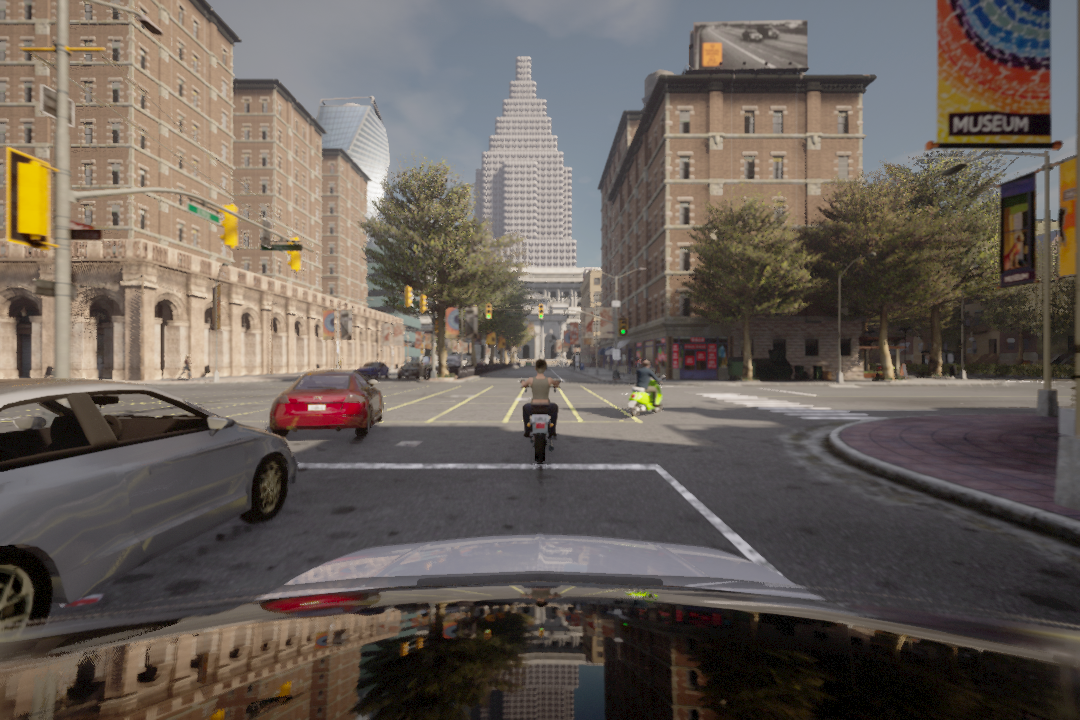TrafficLight: (617, 315, 630, 338), (483, 302, 494, 321), (537, 305, 546, 322)
